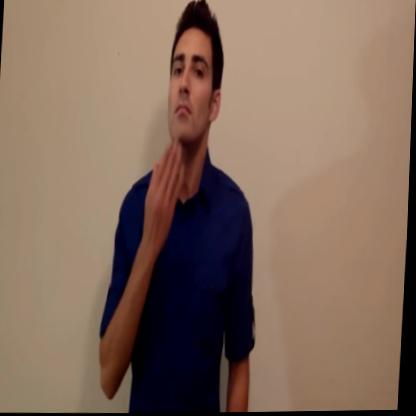ThankYou: (98, 0, 273, 415)
